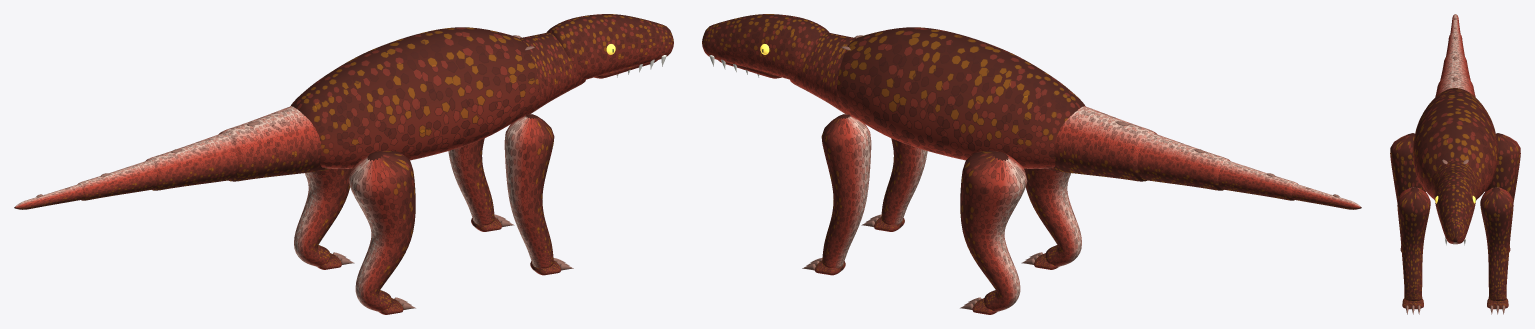
The model's file is postosuchus.glb.
3 renders of one model, left to right at view 1: azimuth 30°, elevation 25°; view 2: azimuth 150°, elevation 25°; view 3: azimuth 270°, elevation 25°, orthographic. The views are drawn at different scales.
Parts seen in each view (by area): view 1: Posto_Torso, Posto_Leg3, Posto_Skull, Posto_Leg1, Posto_TailSeg0, Posto_Leg2, Posto_TailSeg1, Posto_Neck, Posto_Leg0, Posto_TailSeg2, Posto_TailSeg3; view 2: Posto_Torso, Posto_Leg2, Posto_Skull, Posto_Leg0, Posto_TailSeg0, Posto_Leg3, Posto_TailSeg1, Posto_Neck, Posto_Leg1, Posto_TailSeg2, Posto_TailSeg3; view 3: Posto_Torso, Posto_Leg0, Posto_Leg1, Posto_Skull, Posto_Leg2, Posto_Leg3, Posto_Neck, Posto_TailSeg0, Posto_TailSeg1, Posto_TailSeg2, Posto_FootPad0, Posto_FootPad1 (+1 smaller).
Boxes of the visible parts, bbox=[...] form: Posto_Torso: bbox=[290, 27, 538, 168]; Posto_Leg3: bbox=[348, 150, 415, 311]; Posto_Skull: bbox=[546, 14, 673, 79]; Posto_Leg1: bbox=[504, 114, 554, 268]; Posto_TailSeg0: bbox=[218, 106, 328, 181]; Posto_Leg2: bbox=[294, 168, 351, 266]; Posto_TailSeg1: bbox=[146, 133, 238, 190]; Posto_Neck: bbox=[520, 32, 586, 116]; Posto_Leg0: bbox=[448, 138, 494, 224]; Posto_TailSeg2: bbox=[77, 160, 157, 200]; Posto_TailSeg3: bbox=[14, 184, 83, 209]; Posto_Torso: bbox=[837, 27, 1085, 168]; Posto_Leg2: bbox=[960, 150, 1027, 311]; Posto_Skull: bbox=[702, 14, 829, 79]; Posto_Leg0: bbox=[821, 114, 871, 268]; Posto_TailSeg0: bbox=[1047, 106, 1157, 181]; Posto_Leg3: bbox=[1024, 168, 1081, 266]; Posto_TailSeg1: bbox=[1137, 133, 1229, 190]; Posto_Neck: bbox=[789, 32, 855, 116]; Posto_Leg1: bbox=[881, 138, 927, 224]; Posto_TailSeg2: bbox=[1218, 160, 1298, 200]; Posto_TailSeg3: bbox=[1292, 184, 1361, 209]; Posto_Torso: bbox=[1413, 88, 1497, 198]; Posto_Leg0: bbox=[1480, 187, 1513, 300]; Posto_Leg1: bbox=[1397, 187, 1430, 300]; Posto_Skull: bbox=[1435, 169, 1475, 244]; Posto_Leg2: bbox=[1485, 133, 1520, 203]; Posto_Leg3: bbox=[1390, 133, 1425, 203]; Posto_Neck: bbox=[1430, 160, 1480, 200]; Posto_TailSeg0: bbox=[1435, 72, 1475, 96]; Posto_TailSeg1: bbox=[1440, 52, 1470, 79]; Posto_TailSeg2: bbox=[1446, 32, 1464, 56]; Posto_FootPad0: bbox=[1487, 298, 1508, 309]; Posto_FootPad1: bbox=[1402, 298, 1423, 309].
Size of the model in its own units: 6.44 by 2.19 by 1.55.
5 materials, 1 textured.
